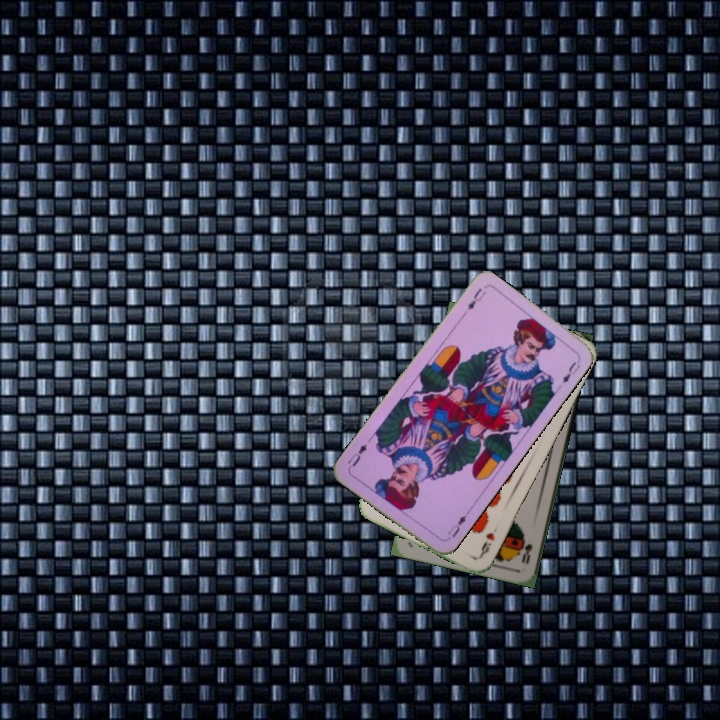EU: (443, 507, 470, 540), (463, 284, 488, 313)
H9: (475, 528, 497, 559)
SO: (518, 535, 535, 567)
